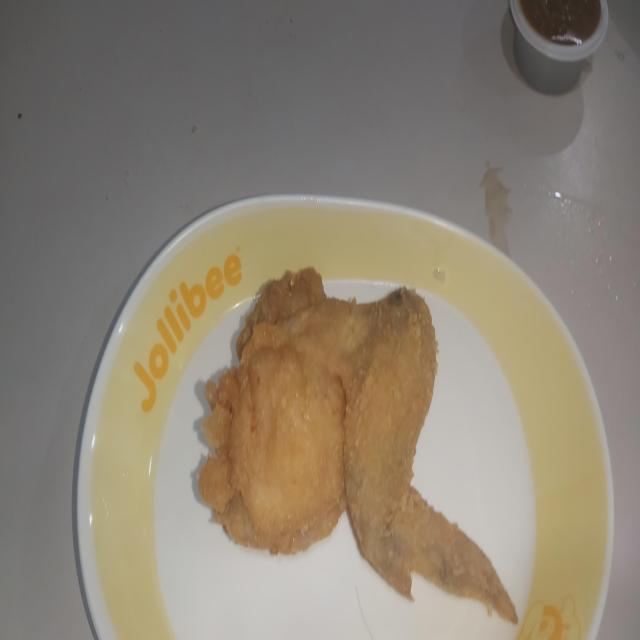Chicken -Fried Chicken-: (176, 203, 499, 640)
